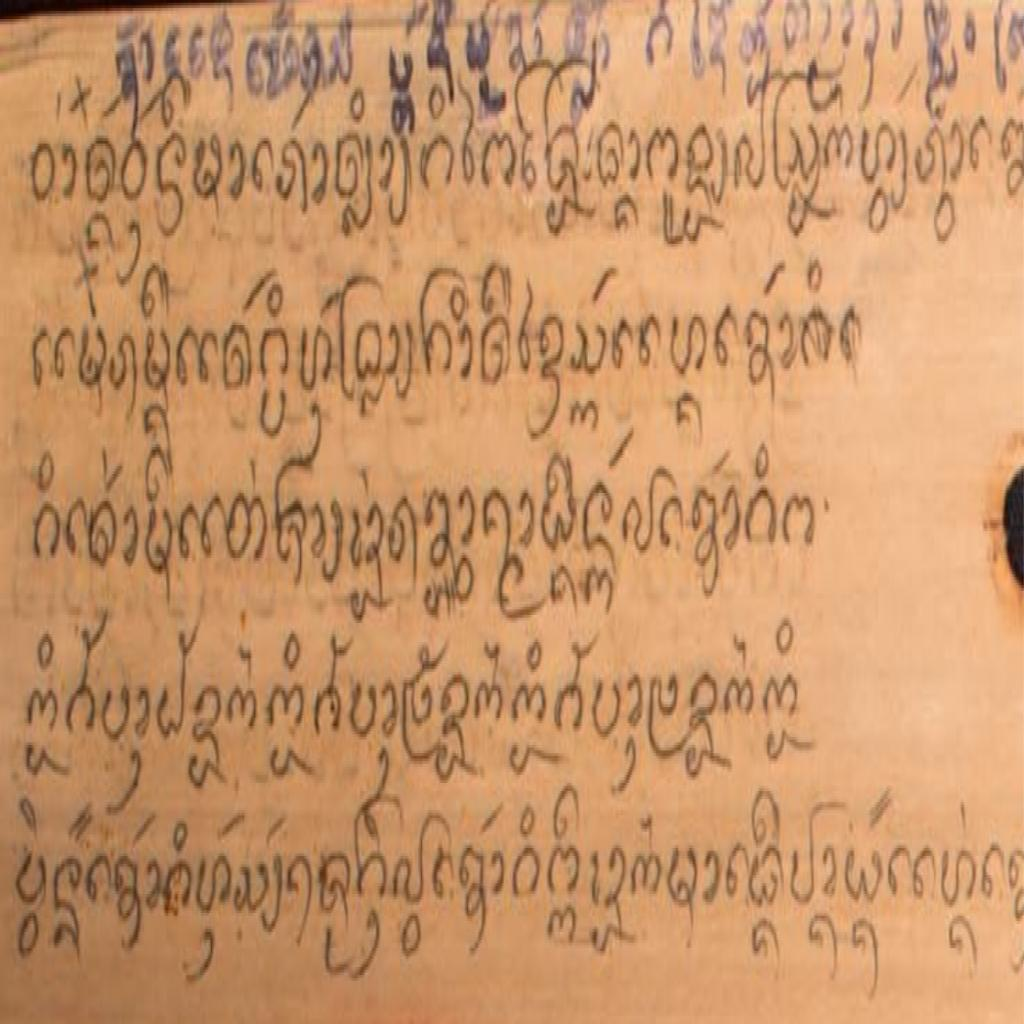LN024: (100, 678, 133, 750)
LN031: (192, 127, 225, 215)
LN035: (30, 136, 59, 211)
